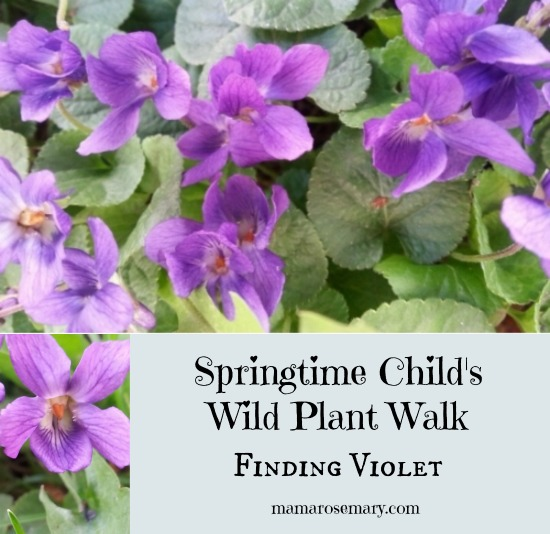violet: (131, 173, 324, 327), (362, 63, 539, 214), (5, 159, 139, 335), (4, 336, 139, 475), (187, 43, 311, 169), (77, 31, 189, 153), (383, 5, 550, 78)
